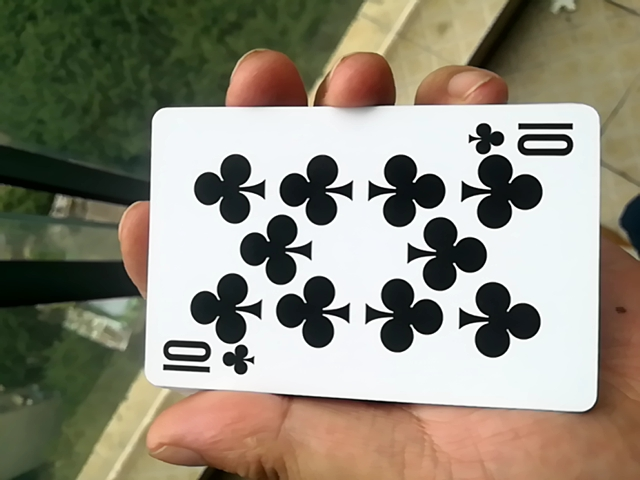mh 10: (132, 114, 593, 419)
